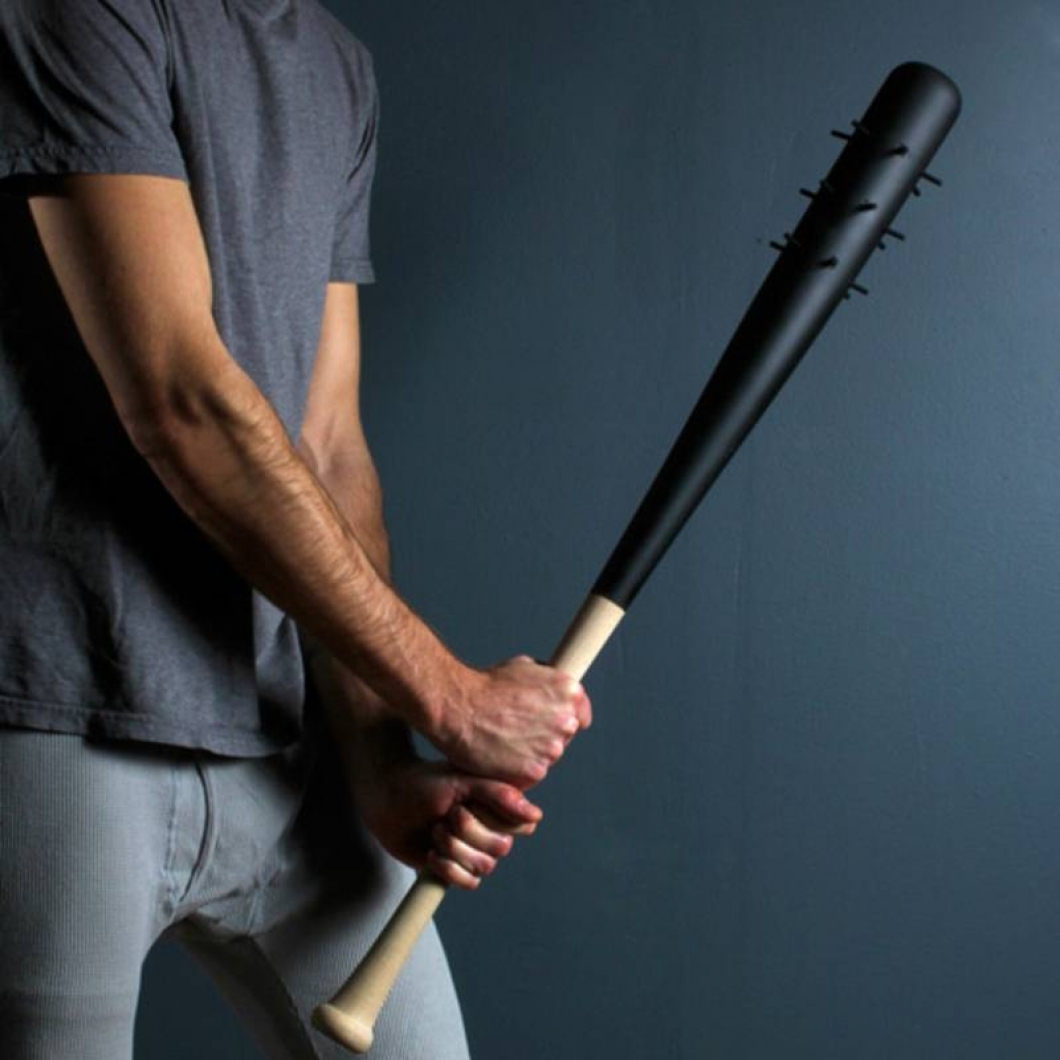mask: (305, 49, 969, 1055)
